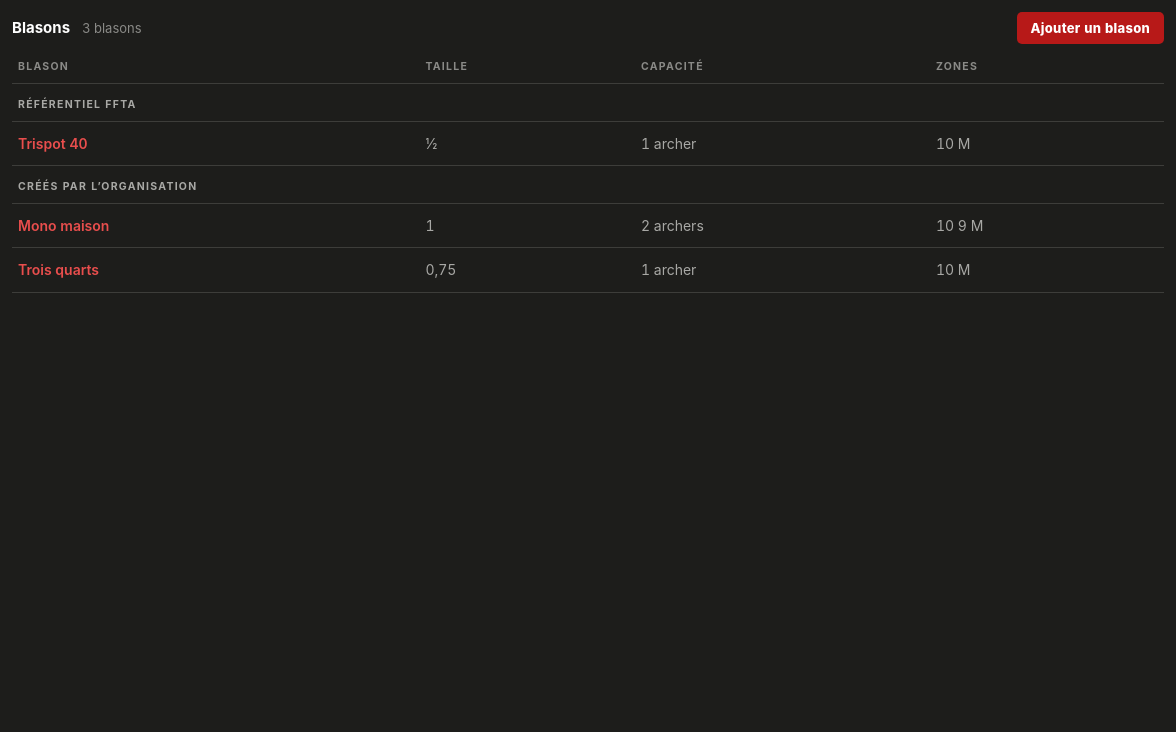
it: Blasons — taille en déroulante de fractions › rouvre une taille hors fractions sous « Autre… », sans l’arrondir
Click the button "Trois quarts" at {"x": 58, "y": 270}, box [18,256,99,284]
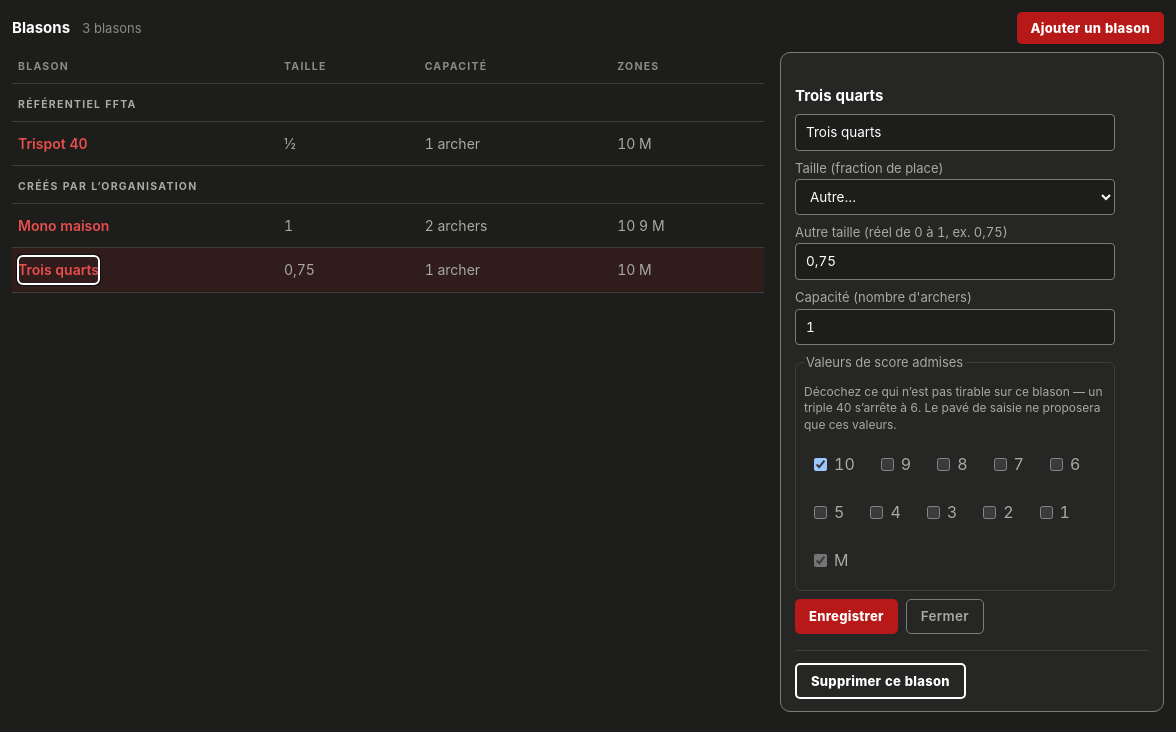
Expected: the dropdown named "Taille du blason (fraction de place)" shows "Autre…", [795,179,1115,215]
Expected: the field named "Autre taille du blason (réel de 0 à 1)" holds "0,75", [795,244,1115,280]
